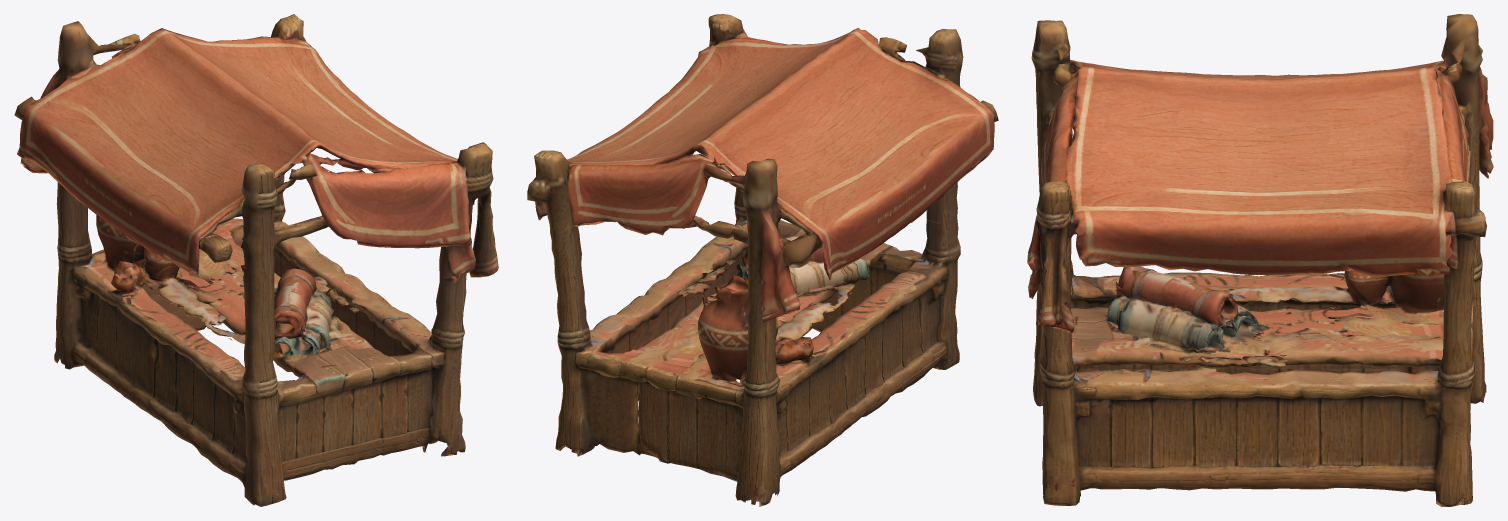
The model's file is DESERT_P02_AWNING_STALL.glb.
3 views of the same model, side by side, from view 1: azimuth 30°, elevation 25°; view 2: azimuth 150°, elevation 25°; view 3: azimuth 270°, elevation 25° (orthographic). The views are drawn at different scales.
Visible parts, largest first — view 1: texture_mapping; view 2: texture_mapping; view 3: texture_mapping.
Boxes of the visible parts, left/top/right/bottom form: texture_mapping: left=14, top=14, right=498, bottom=506; texture_mapping: left=527, top=14, right=998, bottom=506; texture_mapping: left=1027, top=14, right=1493, bottom=506.
Bounding box in the file's own units: 0.825 × 0.8872 × 0.994.
1 material, 1 textured.
